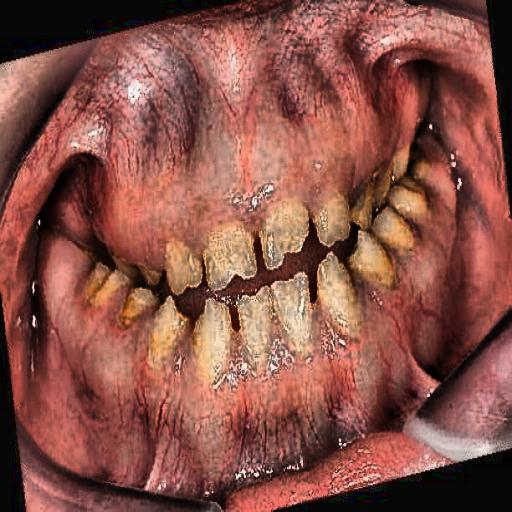Gingivitis: (33, 309, 371, 462), (93, 72, 256, 253), (260, 62, 413, 213)
